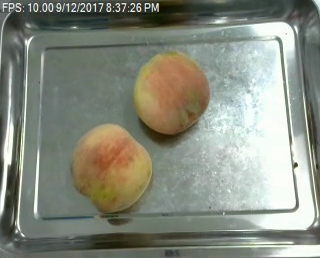Peach: (70, 121, 153, 213), (133, 50, 209, 134)
